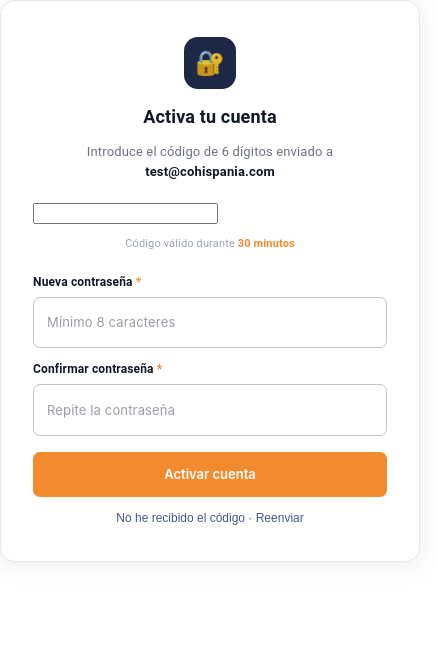
AuthCodeForm › muestra error si la contraseña es menor de 8 caracteres
Type "ABC123" into the field with test id "code-input".
click(126, 214); type("ABC123")  # box [33,203,218,224]
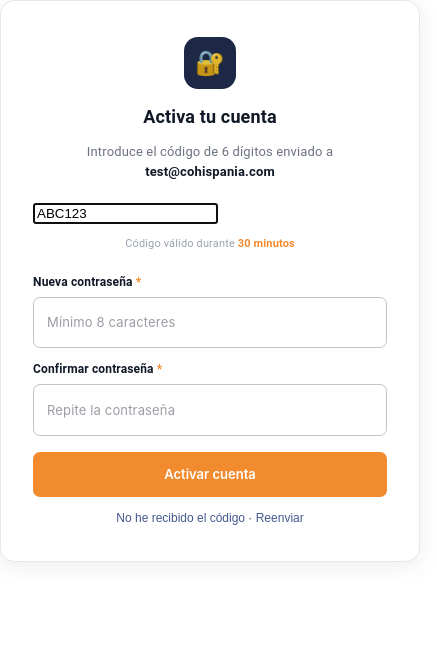
Type "corta" into the password field with placeholder "Mínimo 8 caracteres".
click(210, 322); type("corta")  # box [33,296,387,348]
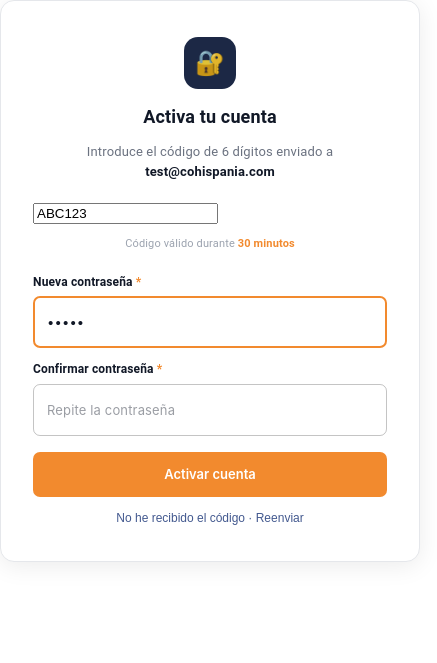
Click the button "Activar cuenta".
click(210, 474)  # box [33,452,387,497]
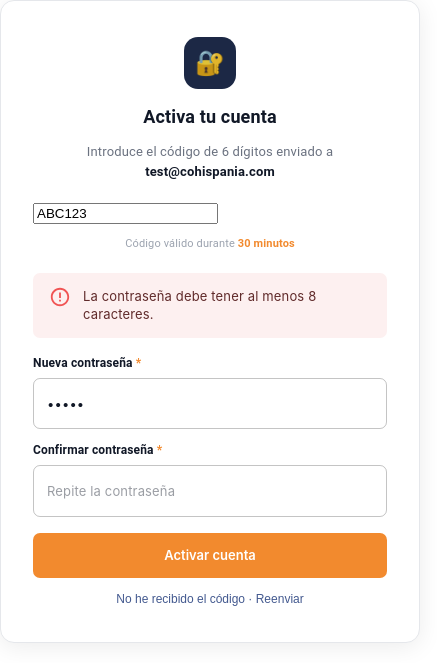
Now the text "La contraseña debe tener al menos 8 caracteres." is shown, box [83,288,316,322]
